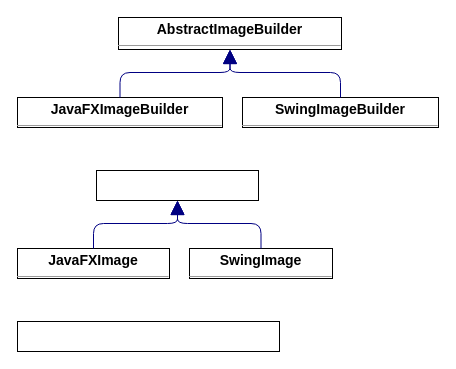
This 456x369 diagram has some shape labels left out. Each missing label, with the centre of its shape:
"AbstractImage" belongs at (177,185).
"FlightWeightImagesFactory" belongs at (148,336).
